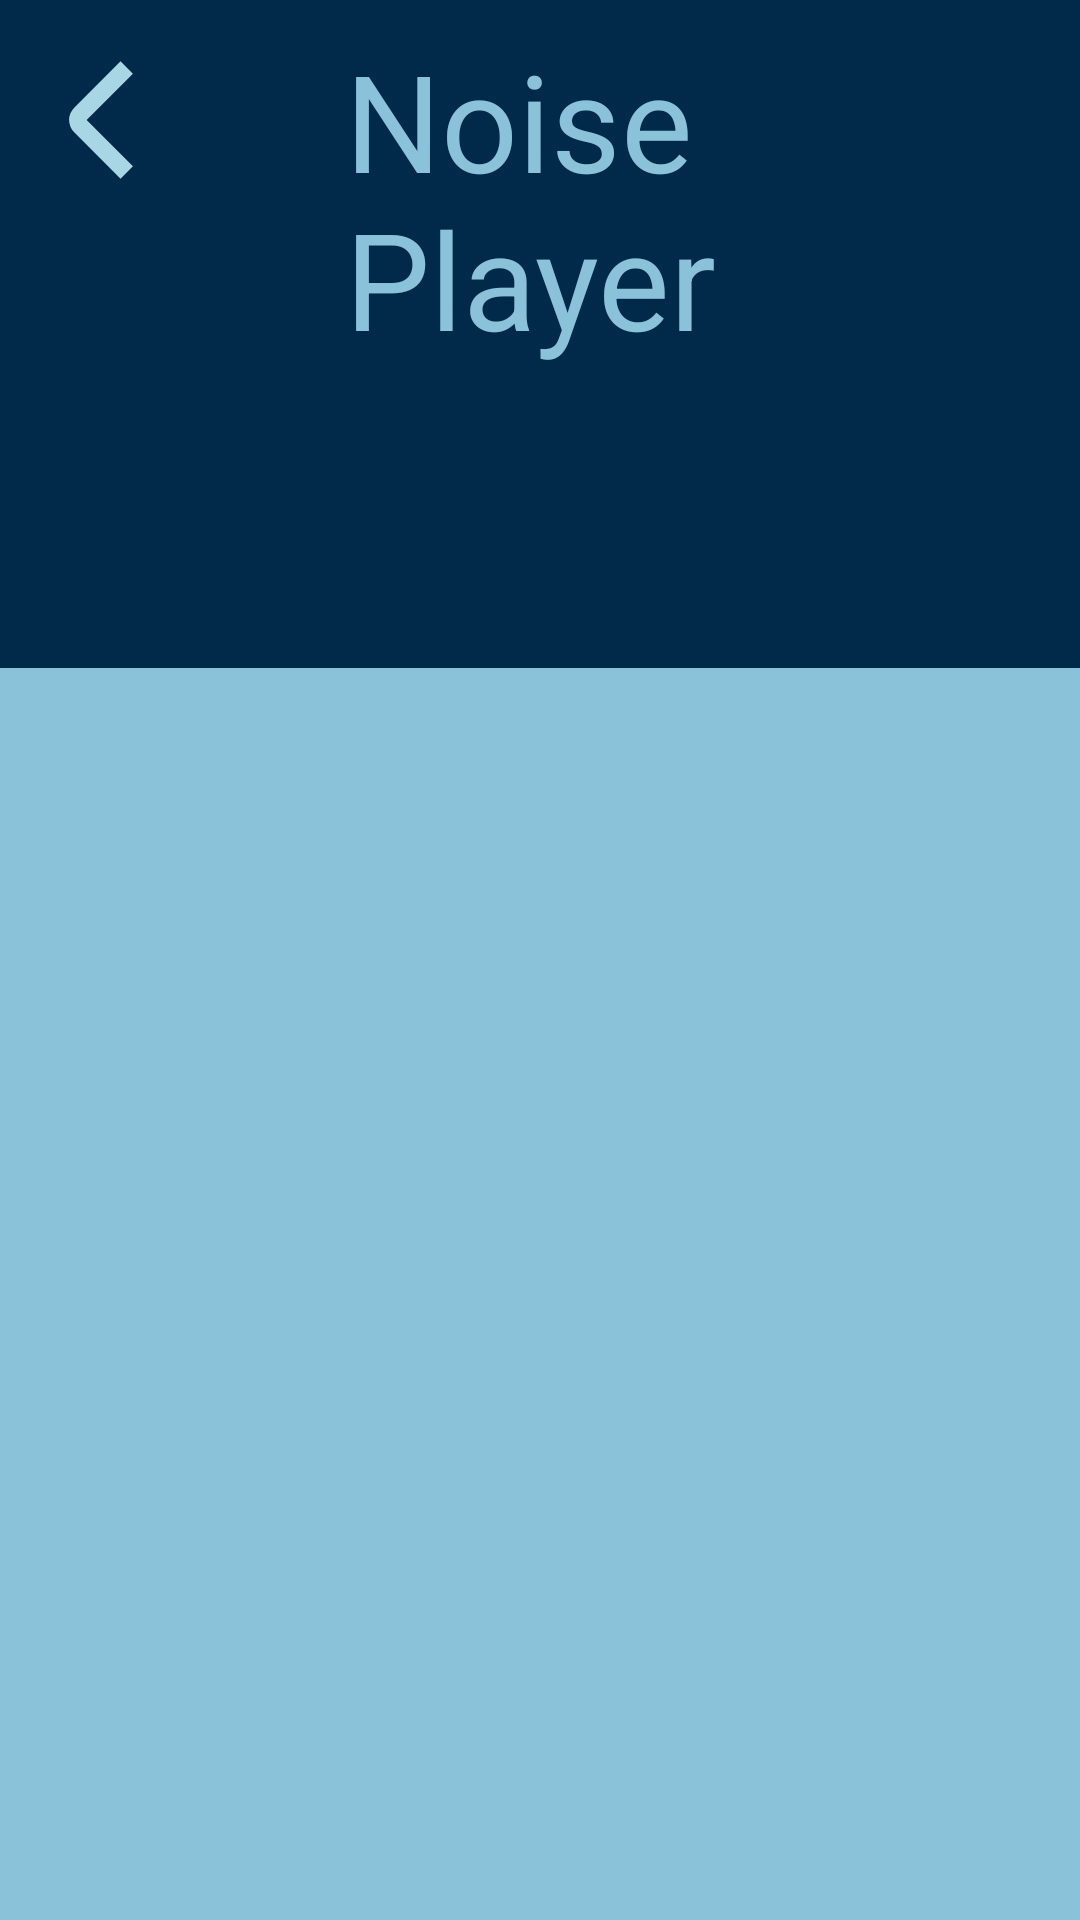

Screen size 1080 × 1920. Icon name, then its center in pixels as [x,y]:
angle left: [101,120]
